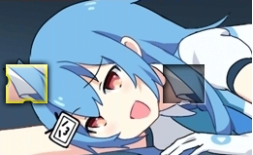gap: (163, 64, 204, 103)
